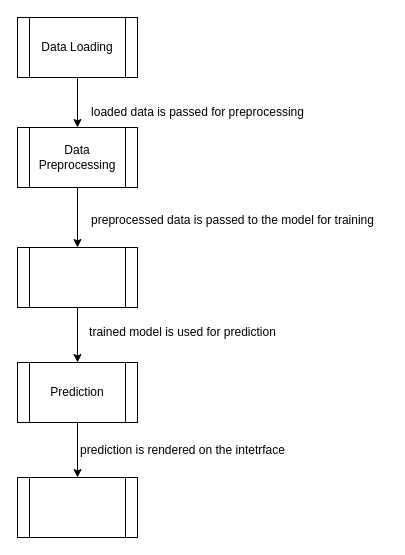
Image size: 405x555. Some labels were removed from this diagram. Each missing label, with the centre of its shape:
"GUI" belongs at point 77,507.
"Model Training" belongs at point 77,277.
